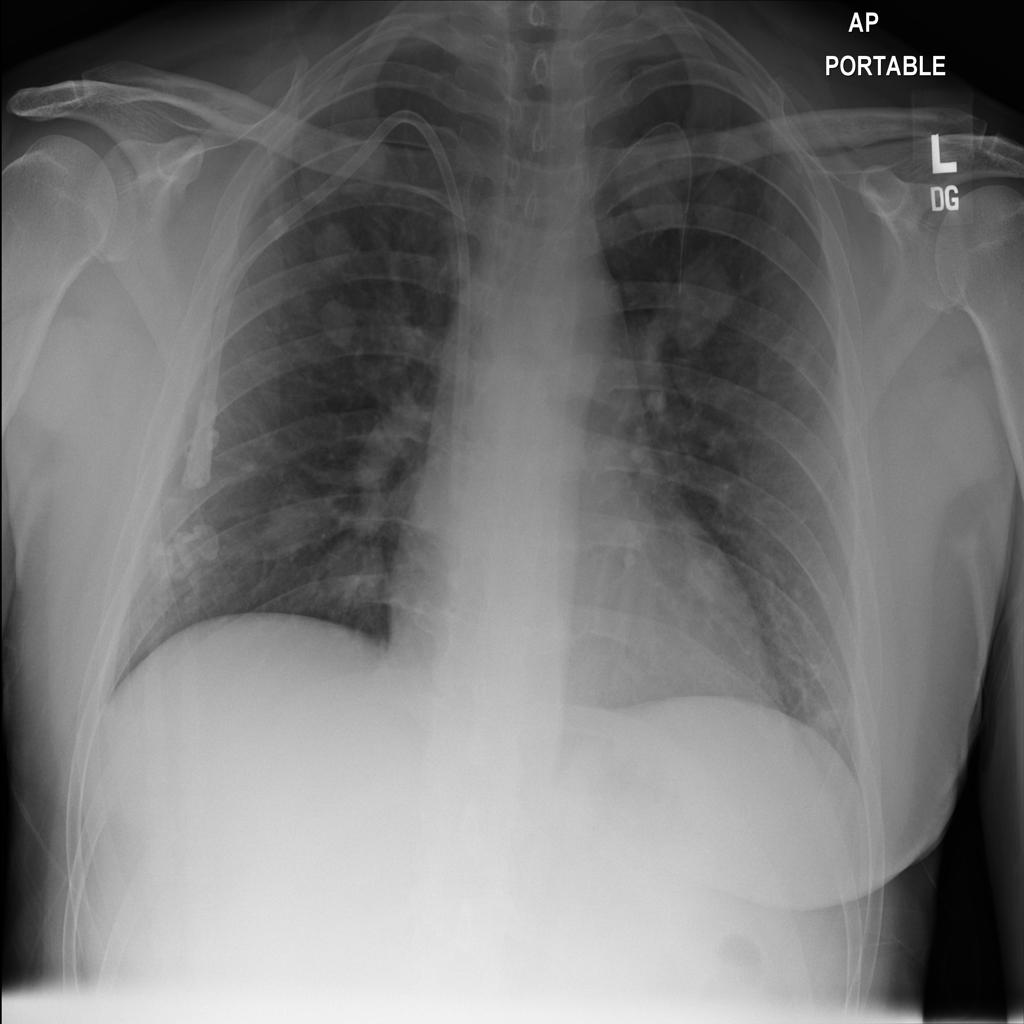nodule: (608, 110, 714, 243), (655, 236, 748, 358), (253, 481, 333, 568), (318, 526, 394, 609), (671, 538, 743, 618), (147, 512, 220, 590), (683, 167, 754, 247), (302, 214, 367, 286), (312, 291, 366, 352), (804, 696, 852, 750), (257, 202, 304, 251)
